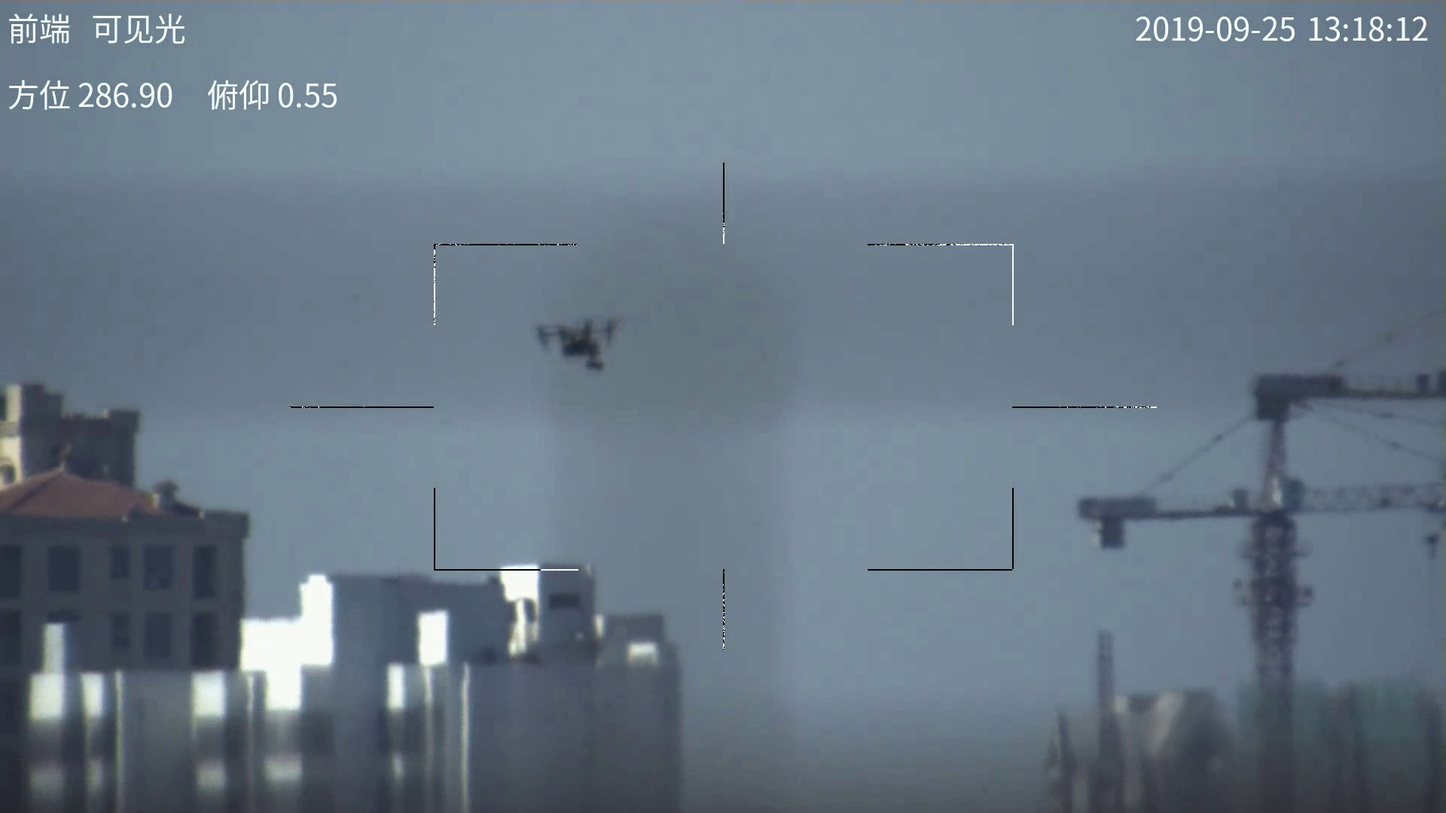drone: (532, 318, 618, 372)
